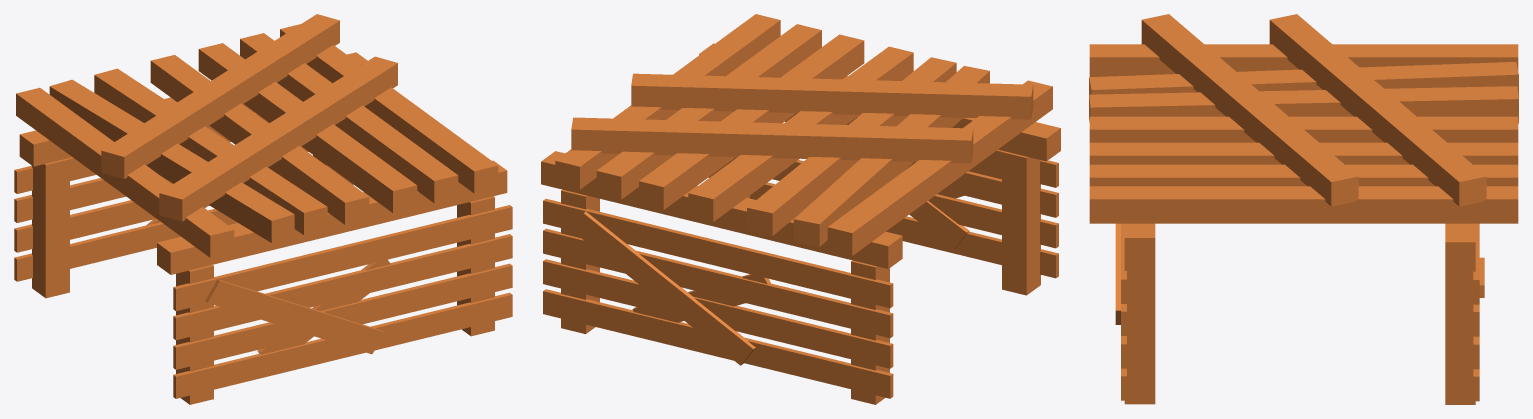
Rendered from wooden_shelter.fbx.
3 views of the same model, side by side, from view 1: azimuth 30°, elevation 25°; view 2: azimuth 150°, elevation 25°; view 3: azimuth 270°, elevation 25° (orthographic). The views are drawn at different scales.
Parts seen in each view (by area): view 1: shed; view 2: shed; view 3: shed.
Boxes of the visible parts, left/top/right/bottom form: shed: left=14, top=14, right=512, bottom=404; shed: left=541, top=14, right=1060, bottom=404; shed: left=1089, top=14, right=1518, bottom=404.
Bounding box in the file's own units: 1433 × 794 × 1403.
